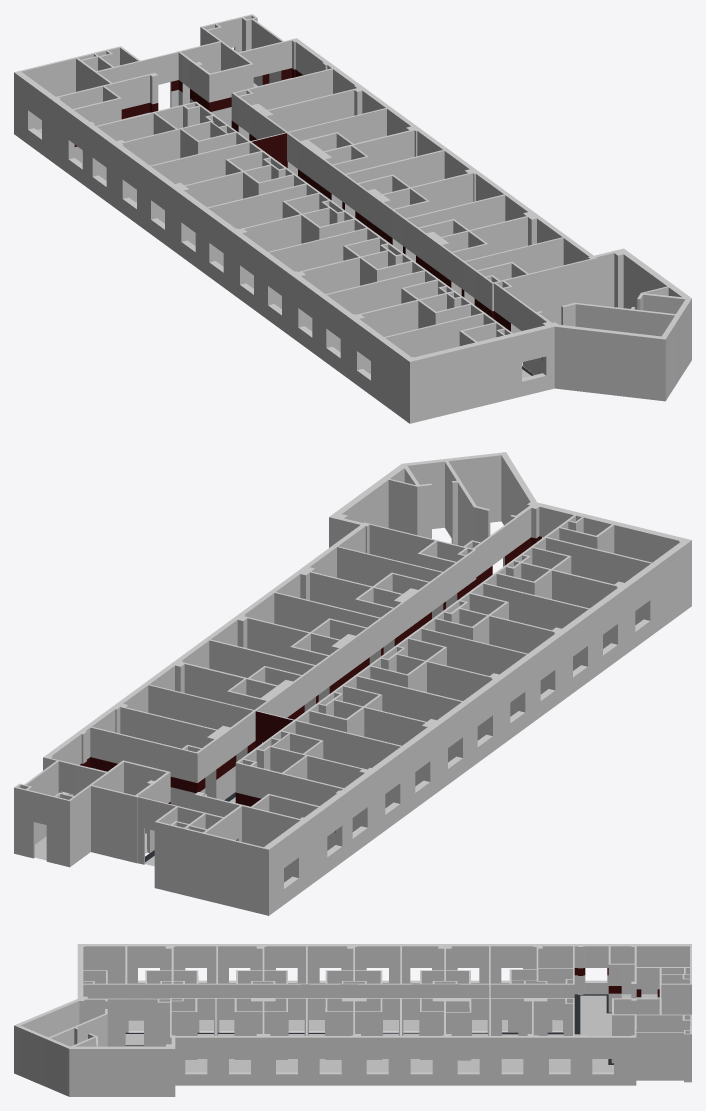
Rendered from Palata1_5thFloor.fbx.
3 renders of one model, top to bottom at view 1: azimuth 30°, elevation 25°; view 2: azimuth 150°, elevation 25°; view 3: azimuth 270°, elevation 25°, orthographic. The views are drawn at different scales.
Parts seen in each view (by area): view 1: Plane; view 2: Plane; view 3: Plane.
Part boxes in pixels (left/top/right/bottom): Plane: left=14, top=14, right=691, bottom=423; Plane: left=14, top=452, right=691, bottom=915; Plane: left=14, top=944, right=691, bottom=1096.
Size of the model in its own units: 1967 by 420 by 5376.
